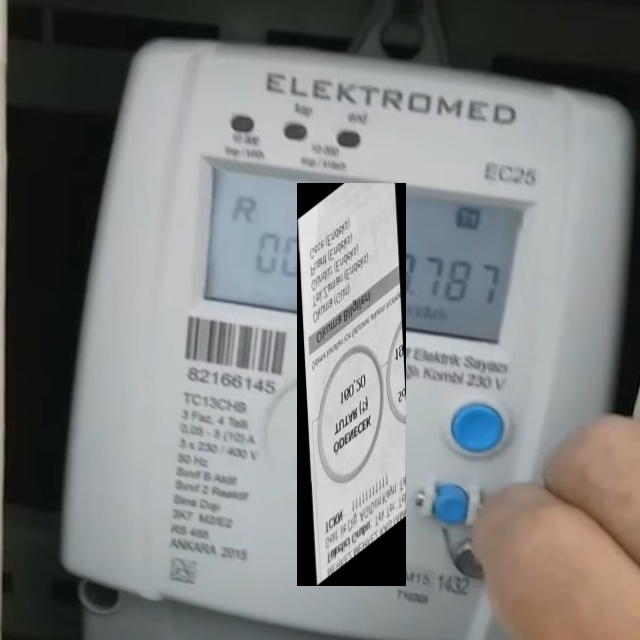electricity-bill: (297, 183, 406, 585)
